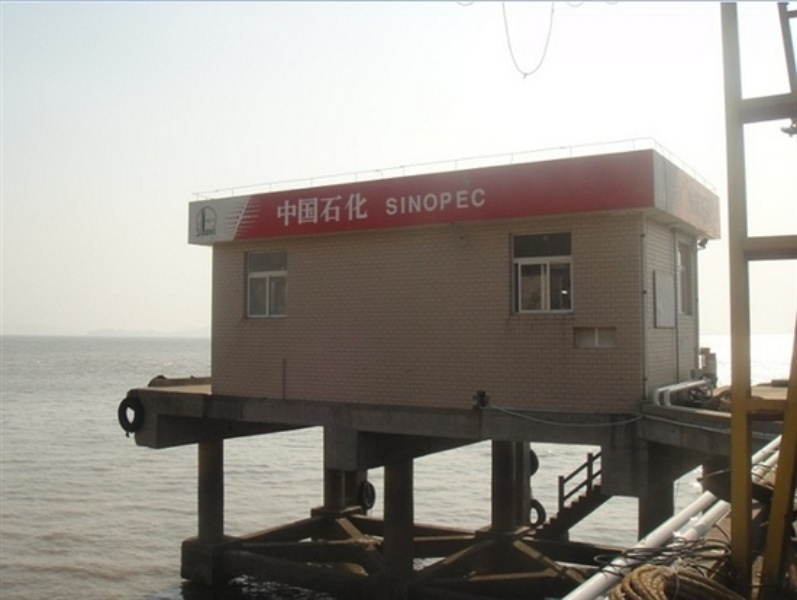text: (289, 192, 304, 228), (305, 192, 320, 228), (321, 192, 336, 228), (337, 192, 352, 228), (353, 192, 368, 228), (385, 187, 400, 218), (401, 187, 416, 218), (417, 187, 432, 218), (433, 187, 448, 218), (449, 187, 464, 218), (465, 187, 480, 218), (276, 192, 288, 228), (481, 187, 489, 218), (369, 192, 371, 228)
